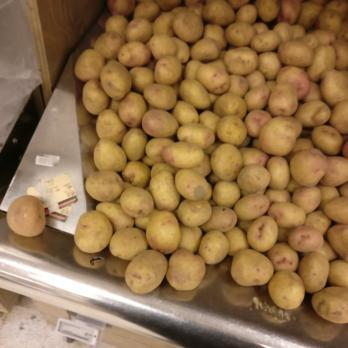Floury potato: (112, 0, 348, 274), (232, 278, 348, 322), (78, 46, 129, 112), (2, 196, 51, 236), (72, 209, 113, 254)
